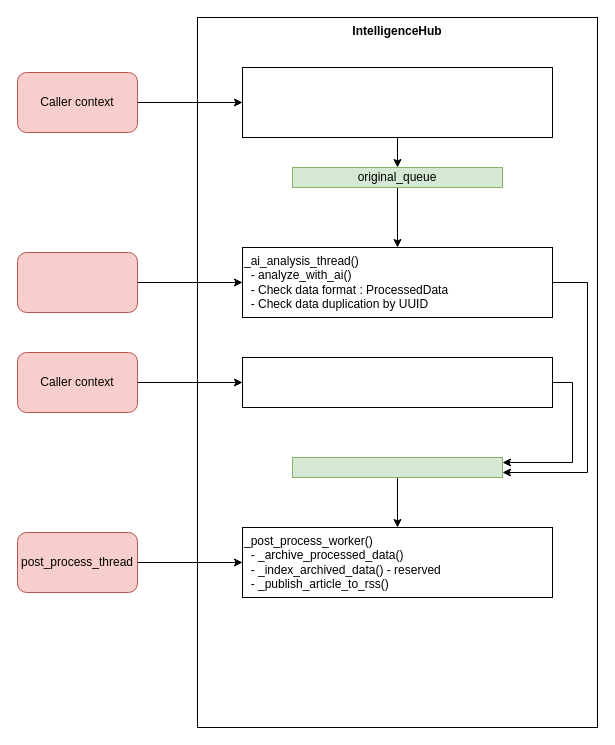
Some shapes in this 615 by 745 pixel diagram are drawn without their labels. Here are the shapes that lost their labels. From the top down, the box of each, then its label:
(242, 66, 552, 138): submit_collected_data() - Check data format : CollectedData - Cache data
(16, 252, 138, 312): analysis_thread
(242, 356, 552, 408): submit_archived_data() - Check data format : ArchivedData
(292, 456, 502, 478): processed_queue
